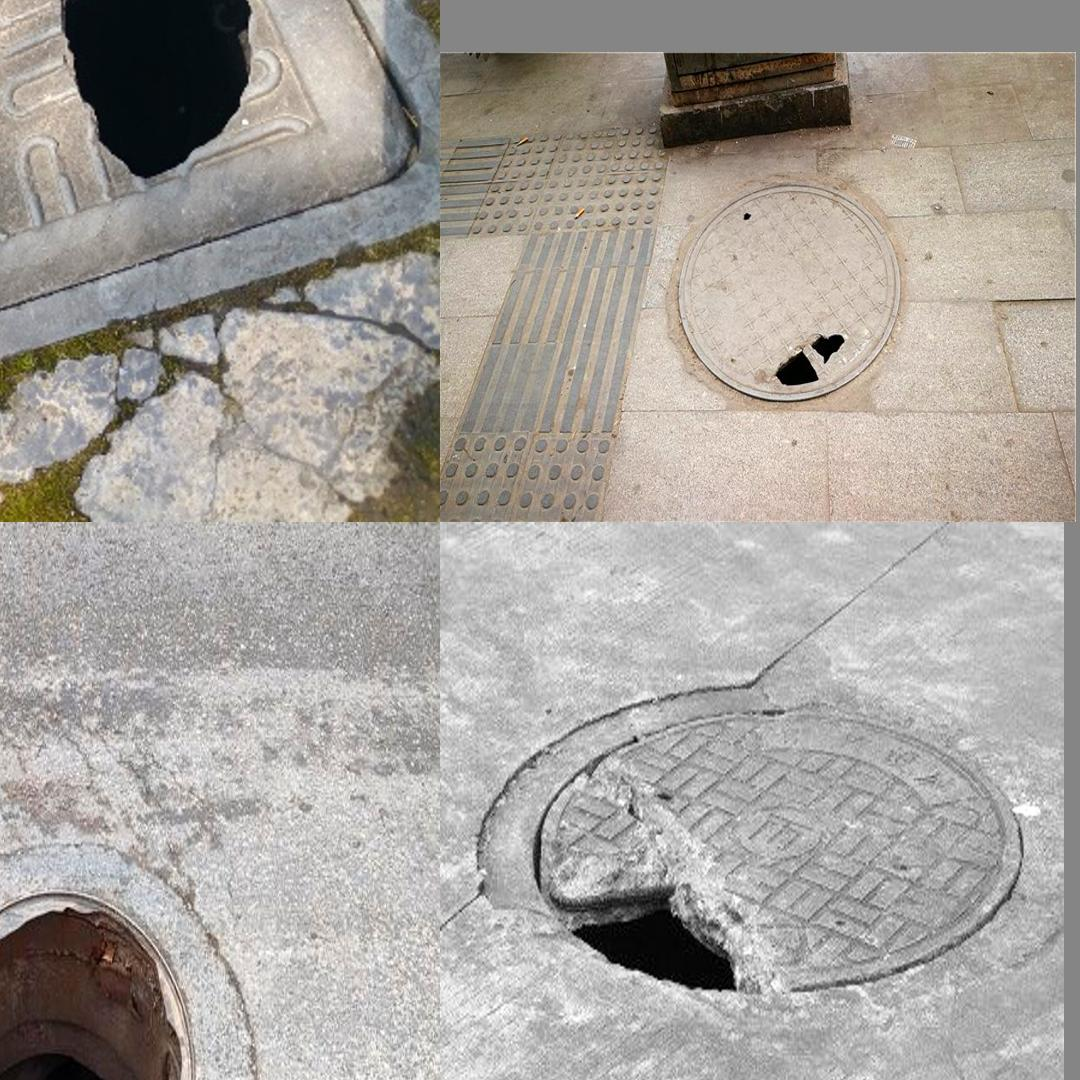broke: (547, 681, 1025, 989), (0, 0, 302, 418), (0, 836, 274, 1080), (678, 179, 899, 400)
